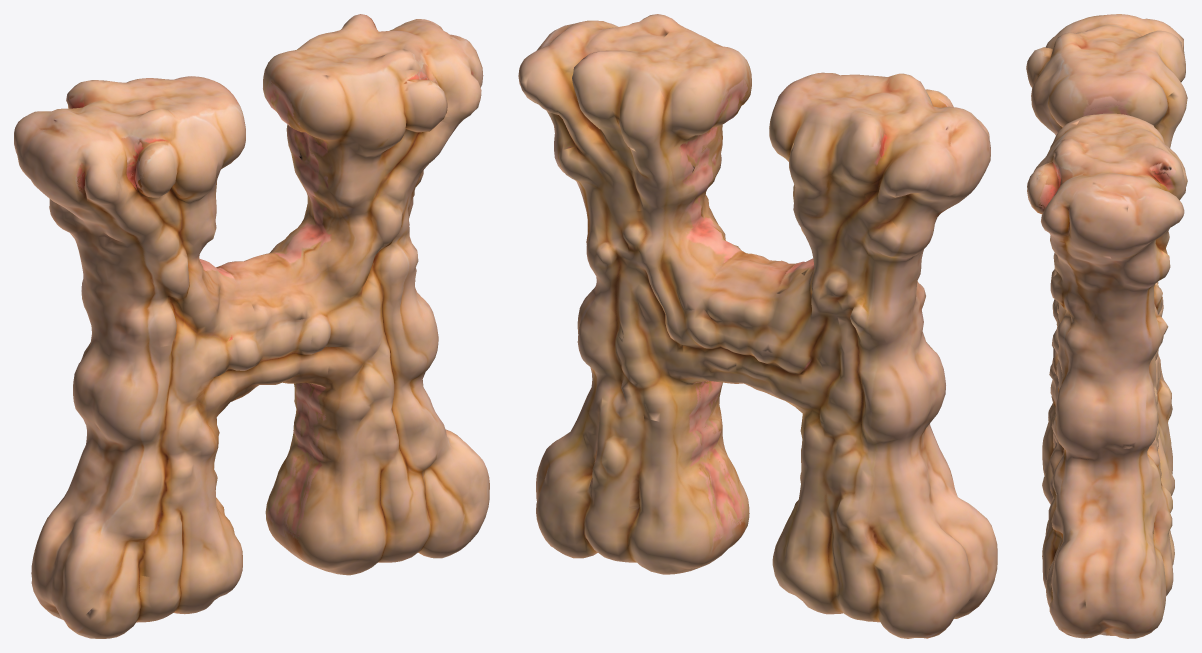
Rendered from brainy_H.glb.
The picture shows the model from 3 angles, left to right: view 1: azimuth 30°, elevation 25°; view 2: azimuth 150°, elevation 25°; view 3: azimuth 270°, elevation 25°; orthographic projection. The views are drawn at different scales.
Size of the model in its own units: 1.73 by 2 by 0.6175.
1 material, 1 textured.
